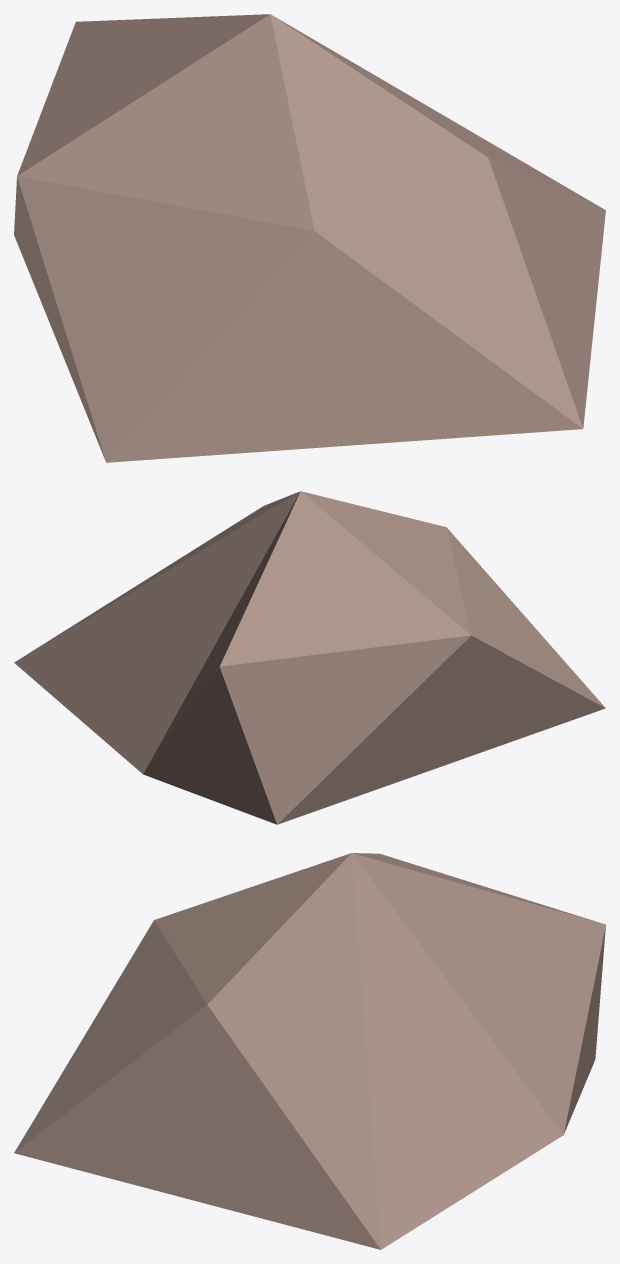
The model's file is Rock1.fbx.
3 views of the same model, one above another, from view 1: azimuth 30°, elevation 25°; view 2: azimuth 150°, elevation 25°; view 3: azimuth 270°, elevation 25° (orthographic). The views are drawn at different scales.
Parts seen in each view (by area): view 1: rock_GEO2; view 2: rock_GEO2; view 3: rock_GEO2.
Part boxes in pixels (x1=…): rock_GEO2: x1=14, y1=14, x2=605, y2=462; rock_GEO2: x1=14, y1=491, x2=605, y2=824; rock_GEO2: x1=14, y1=853, x2=605, y2=1249.
Bounding box in the file's own units: 53.55 × 24.15 × 51.12.
